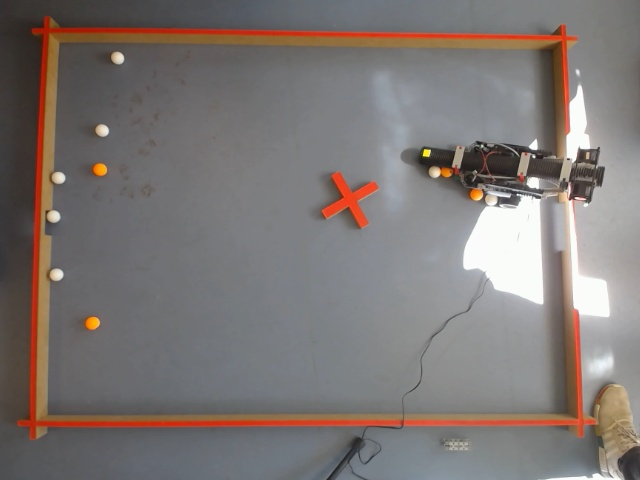orange: (81, 314, 103, 333), (91, 161, 109, 179)
robot: (451, 136, 608, 213)
white: (571, 84, 584, 113), (92, 121, 111, 140), (47, 266, 67, 284), (108, 50, 126, 68), (49, 170, 68, 186), (45, 208, 62, 225), (429, 165, 439, 178), (576, 83, 583, 98), (423, 147, 430, 158)
